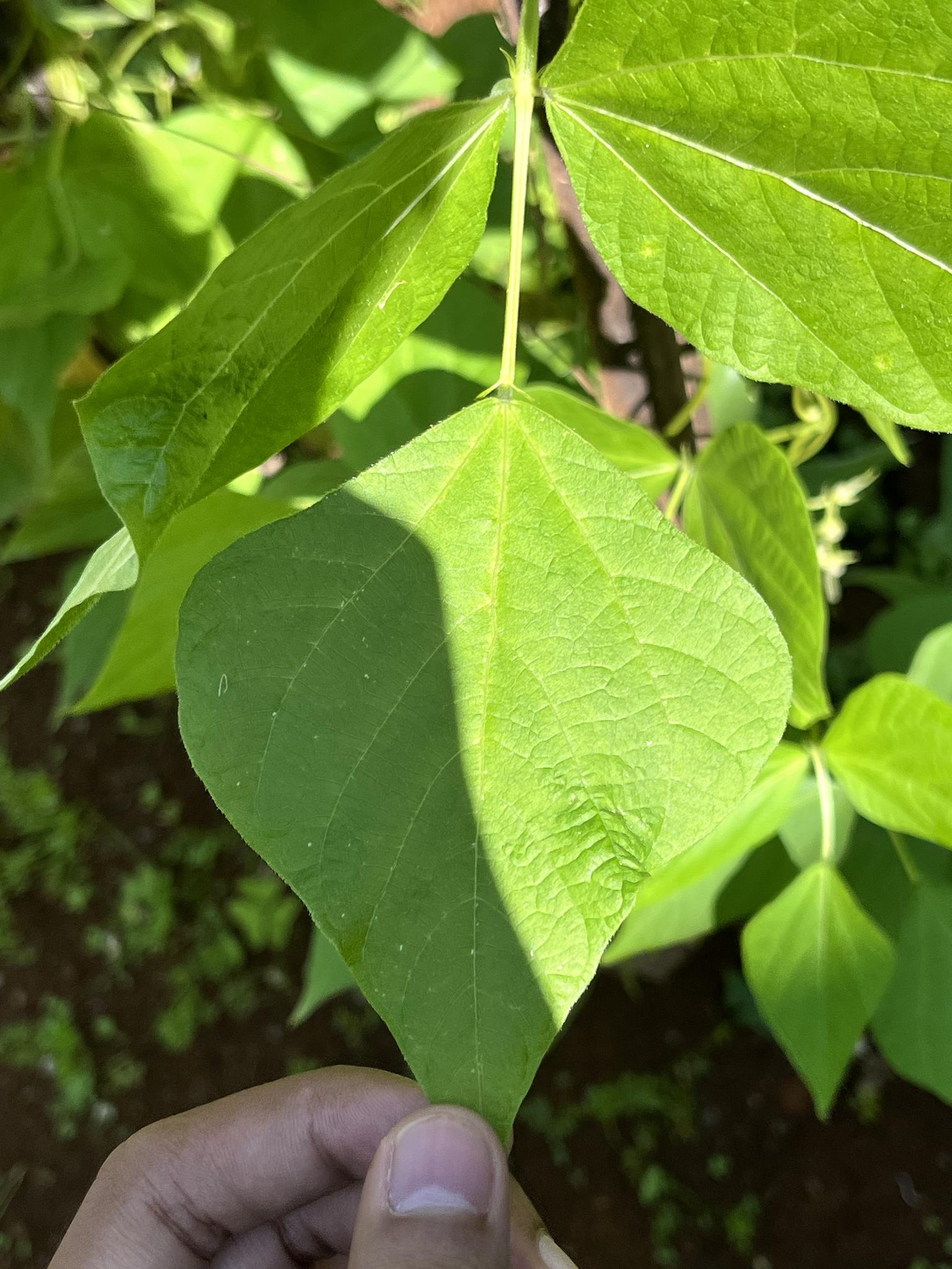sehat: (167, 398, 792, 1154)
